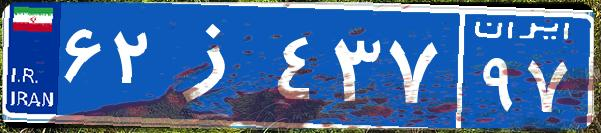2: (110, 28, 158, 105)
3: (330, 28, 385, 110)
4: (273, 28, 330, 110)
6: (57, 26, 110, 107)
7: (385, 28, 445, 110), (525, 38, 570, 115)
9: (475, 38, 525, 113)
ز: (158, 15, 273, 115)
